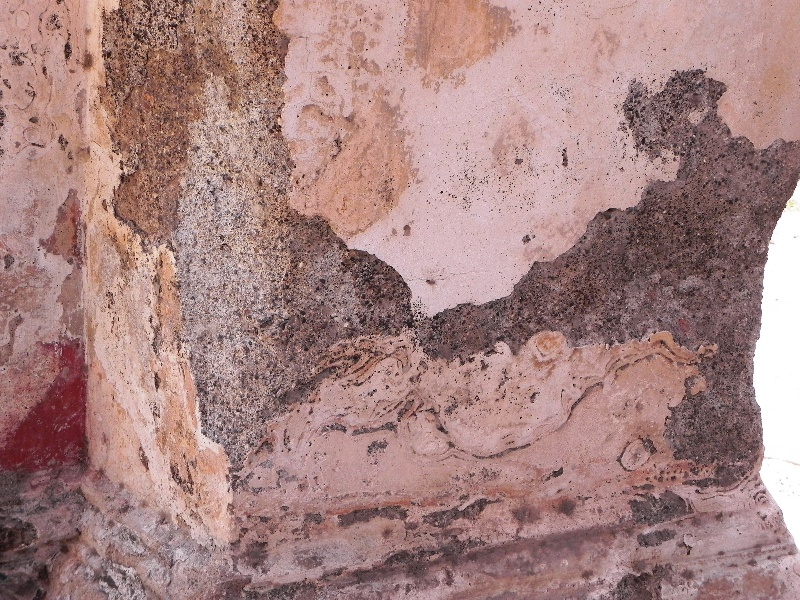Spalling: (418, 65, 796, 502), (90, 1, 415, 465)
